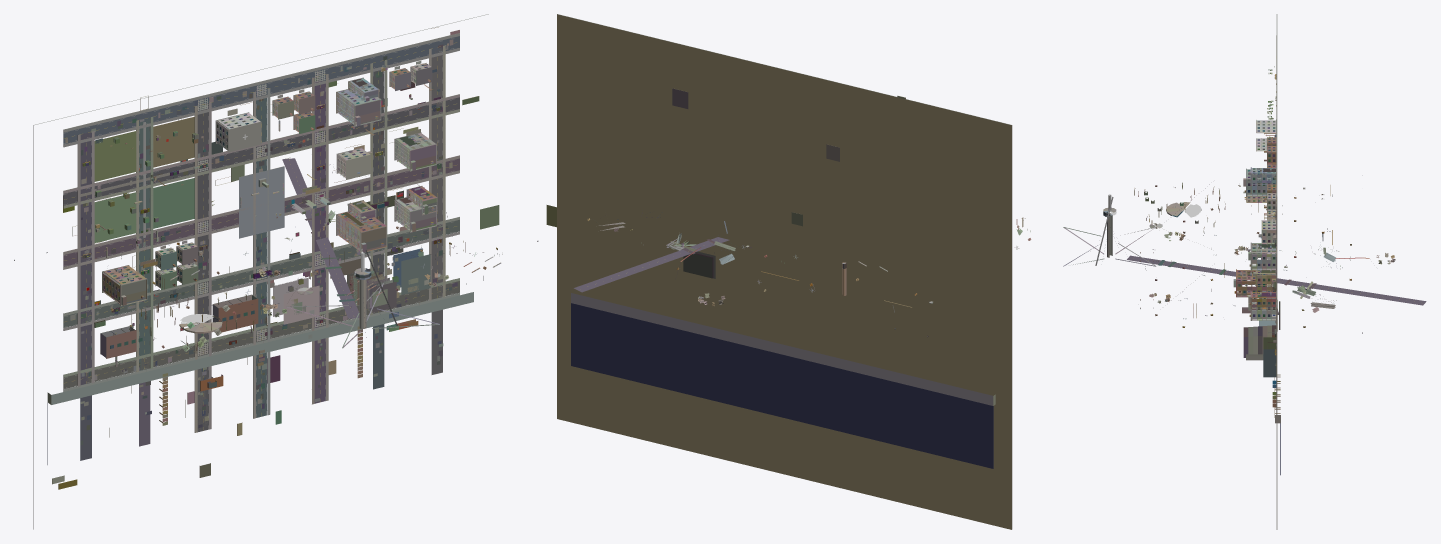
The model's file is warzone_city.glb.
3 renders of one model, left to right at view 1: azimuth 30°, elevation 25°; view 2: azimuth 150°, elevation 25°; view 3: azimuth 270°, elevation 25°, orthographic. The views are drawn at different scales.
Visible parts, largest first — view 1: park_lawn_04244, waterfront_quay_04334, road_asph_00856, road_asph_01006, road_asph_01456, road_asph_01306, road_asph_01156, sidewalk_plaza_04314, road_asph_00536, road_asph_00092, road_asph_00288, road_asph_00758 (+45 smaller); view 2: terrain_ground_00001, waterfront_quay_04334, road_broadway_03396, water_fissure_04158; view 3: road_broadway_03396, terrain_ground_00001, destroyed_landmark_leaning_04179, building_res_03736, destroyed_landmark_tower_04194, building_res_03926, building_hospital_03441, building_res_04069.
Part boxes in pixels (box(x1,y1,x2,y2)): park_lawn_04244: box(94, 116, 194, 242); waterfront_quay_04334: box(47, 292, 473, 464); road_asph_00856: box(63, 36, 459, 144); road_asph_01006: box(63, 97, 459, 205); road_asph_01456: box(63, 281, 459, 389); road_asph_01306: box(63, 219, 459, 327); road_asph_01156: box(63, 158, 459, 266); sidewalk_plaza_04314: box(239, 166, 284, 238); road_asph_00536: box(314, 77, 325, 403); road_asph_00092: box(80, 132, 91, 384); road_asph_00288: box(197, 103, 208, 431); road_asph_00758: box(431, 47, 442, 298); terrain_ground_00001: box(557, 14, 1012, 529); waterfront_quay_04334: box(571, 293, 995, 468); road_broadway_03396: box(574, 237, 729, 292); water_fissure_04158: box(683, 251, 715, 278); road_broadway_03396: box(1127, 255, 1426, 305); terrain_ground_00001: box(1276, 14, 1277, 529); destroyed_landmark_leaning_04179: box(1243, 325, 1276, 357); building_res_03736: box(1248, 242, 1276, 270); destroyed_landmark_tower_04194: box(1246, 337, 1276, 377); building_res_03926: box(1233, 269, 1275, 297); building_hospital_03441: box(1256, 119, 1276, 151); building_res_04069: box(1248, 291, 1276, 309).
Size of the model in its own units: 286 by 239 by 235.
